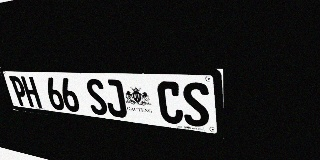6: (58, 78, 81, 113), (43, 77, 66, 111)
C: (156, 81, 184, 125)
H: (20, 76, 42, 108)
J: (102, 79, 128, 118)
P: (9, 76, 30, 106)
S: (181, 82, 210, 128), (84, 78, 109, 116)
